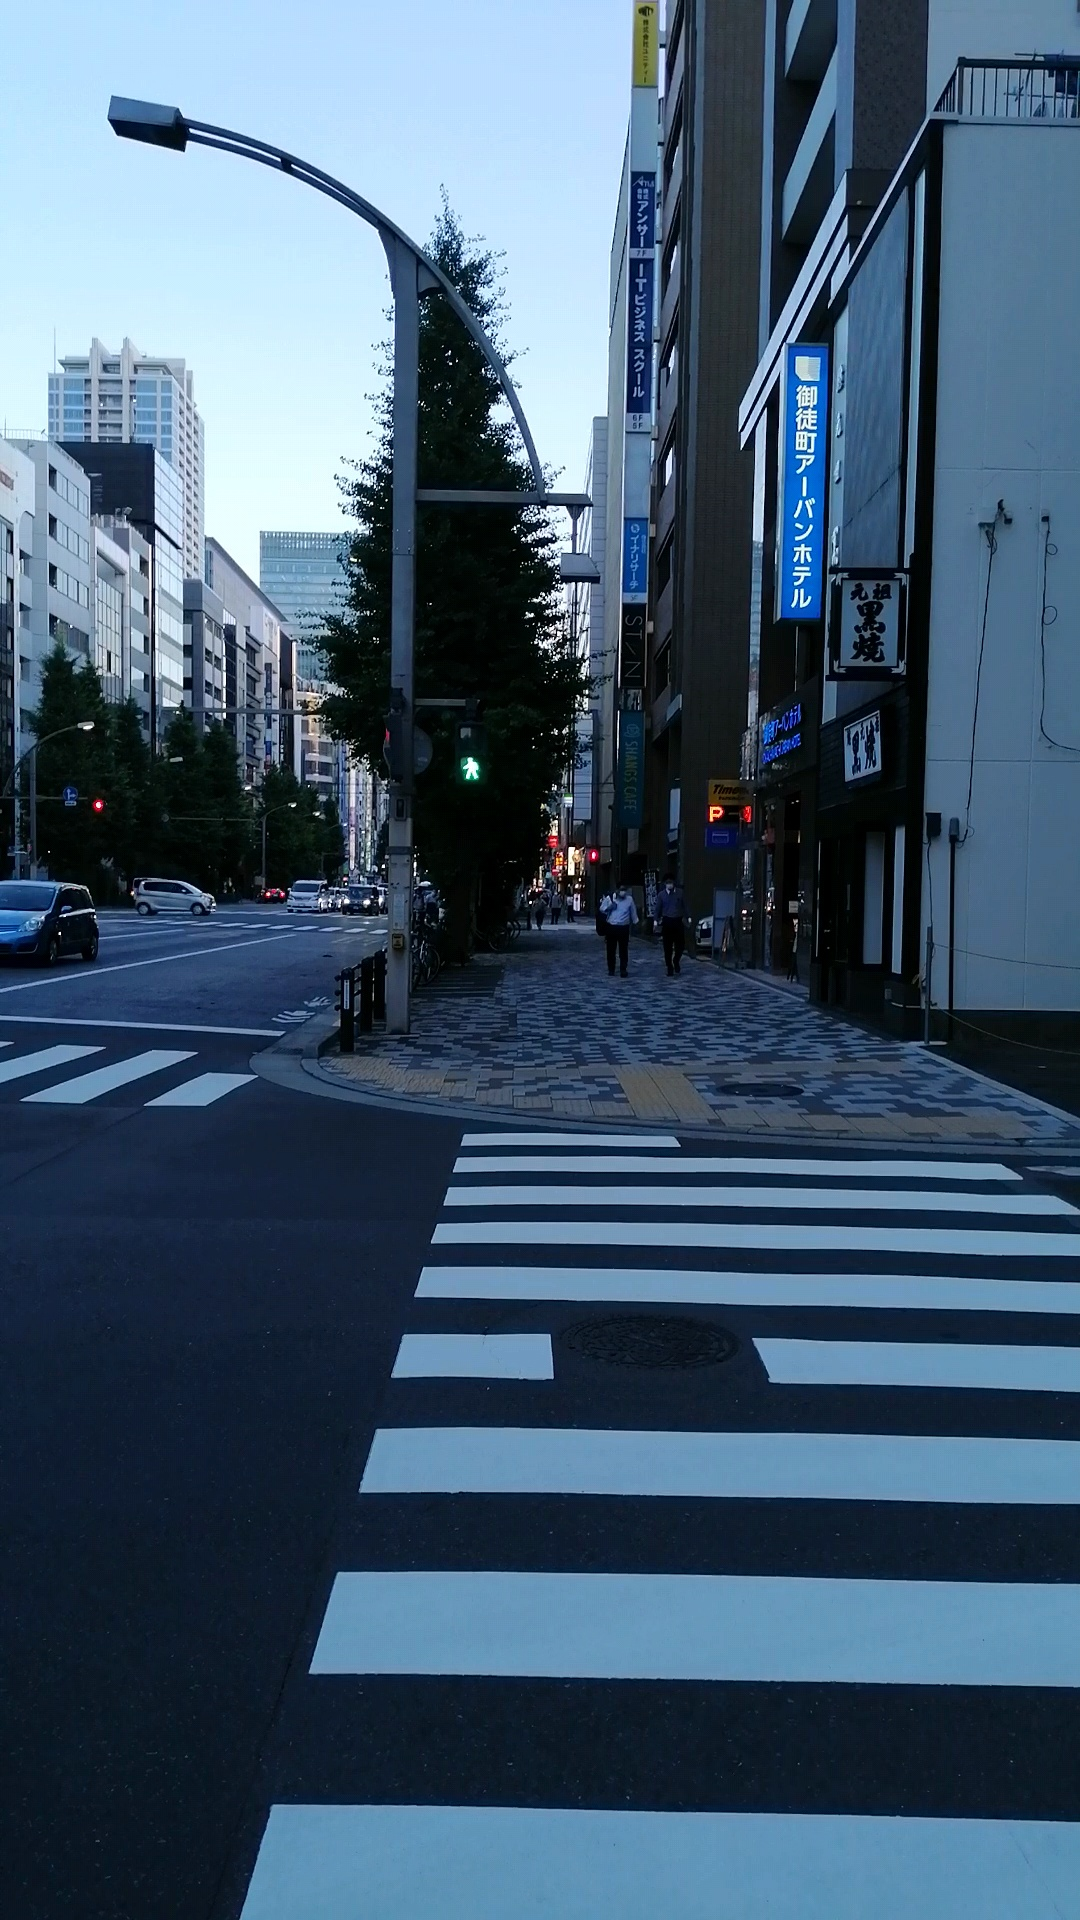green: (454, 723, 488, 789)
